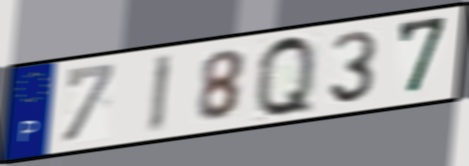3: (326, 29, 380, 105)
7: (63, 61, 117, 147), (397, 15, 449, 100)
8: (195, 47, 248, 124)
I: (145, 51, 175, 137)
Q: (254, 32, 317, 120)
